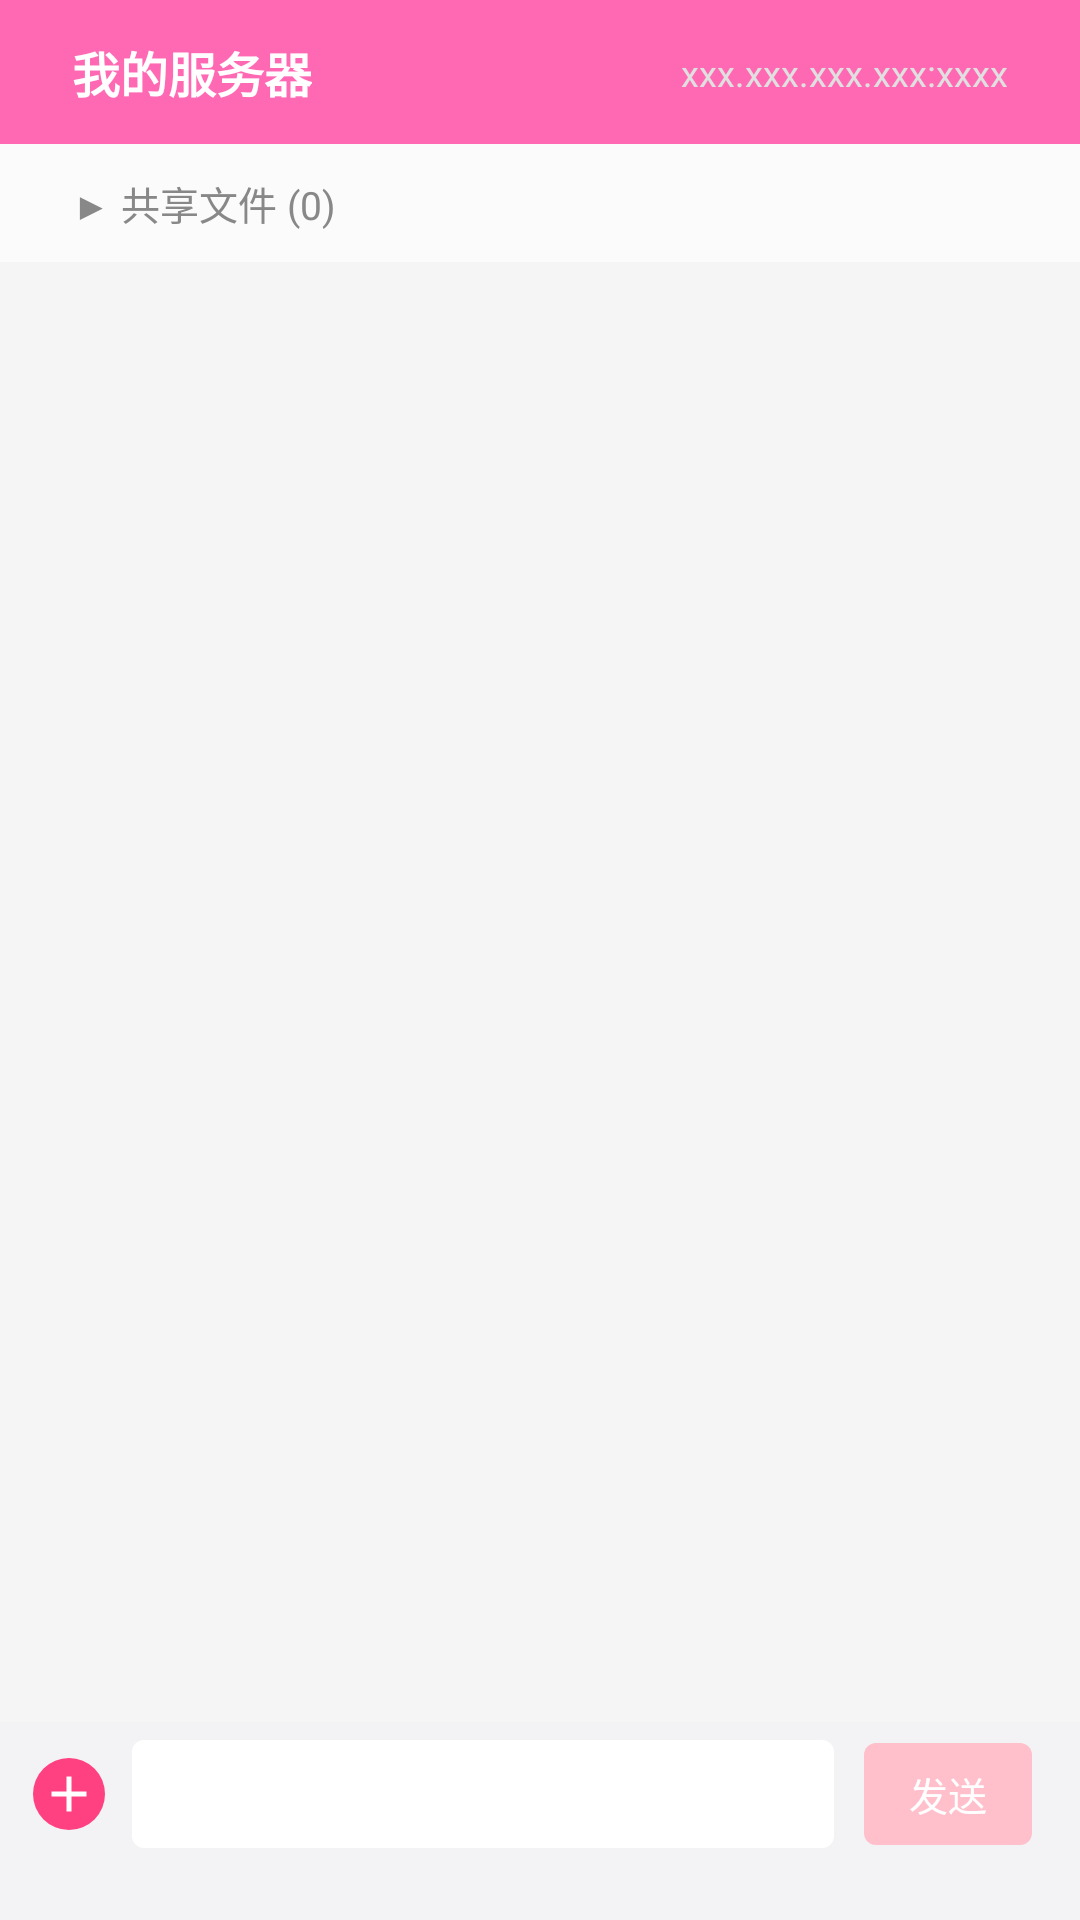

Where to tap for icons on this 1080px×1920px app screen, as (x,y):
add: (69,1794)
